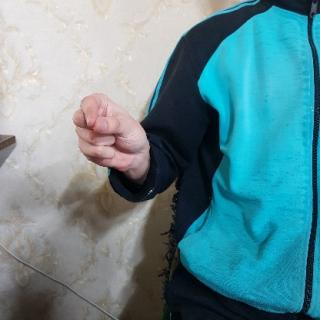FAA: (72, 90, 152, 182)
